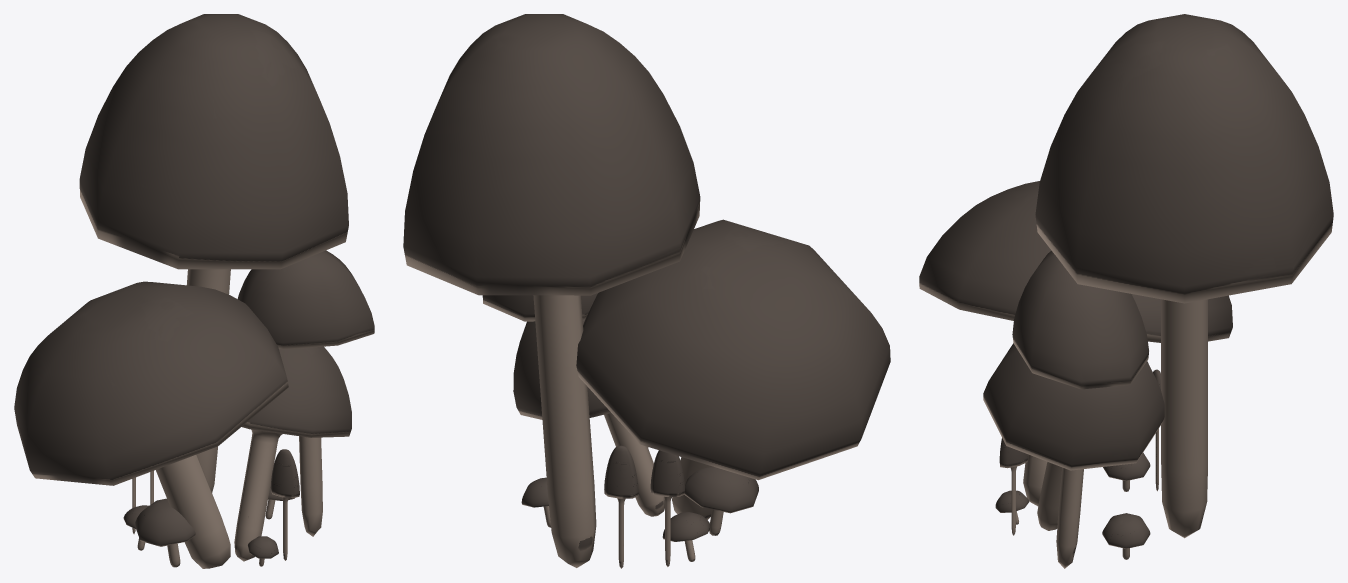
The model's file is MushroomCluster.fbx.
The picture shows the model from 3 angles, left to right: view 1: azimuth 30°, elevation 25°; view 2: azimuth 150°, elevation 25°; view 3: azimuth 270°, elevation 25°; orthographic projection. The views are drawn at different scales.
Visible parts, largest first — view 1: MushroomCluster; view 2: MushroomCluster; view 3: MushroomCluster.
Boxes of the visible parts, <box> form: MushroomCluster: <box>14,14,374,568</box>; MushroomCluster: <box>403,14,890,568</box>; MushroomCluster: <box>919,14,1333,568</box>.
Size of the model in its own units: 285 by 376 by 268.
1 material, 1 textured.
